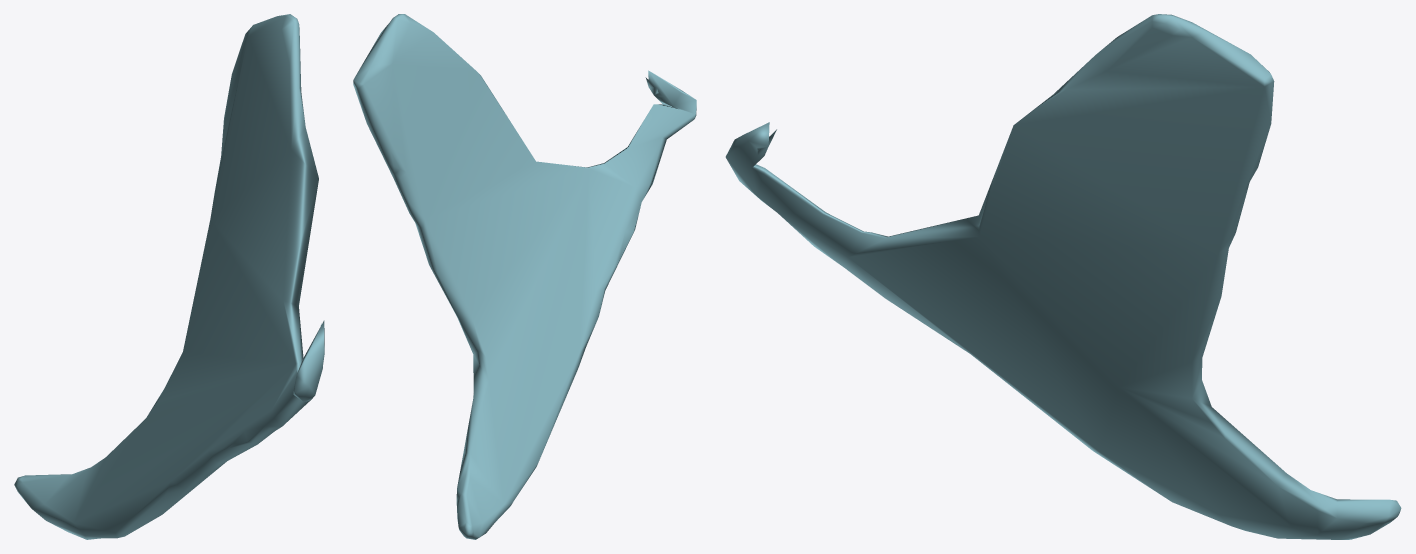
3 renders of one model, left to right at view 1: azimuth 30°, elevation 25°; view 2: azimuth 150°, elevation 25°; view 3: azimuth 270°, elevation 25°, orthographic. The views are drawn at different scales.
Parts seen in each view (by area): view 1: 左侧鼻中隔软骨外侧突; view 2: 左侧鼻中隔软骨外侧突; view 3: 左侧鼻中隔软骨外侧突.
Boxes of the visible parts, x1=… form: 左侧鼻中隔软骨外侧突: x1=14, y1=14, x2=324, y2=539; 左侧鼻中隔软骨外侧突: x1=353, y1=14, x2=696, y2=539; 左侧鼻中隔软骨外侧突: x1=725, y1=14, x2=1401, y2=539.
Size of the model in its own units: 0.0194 by 0.0495 by 0.0486.
